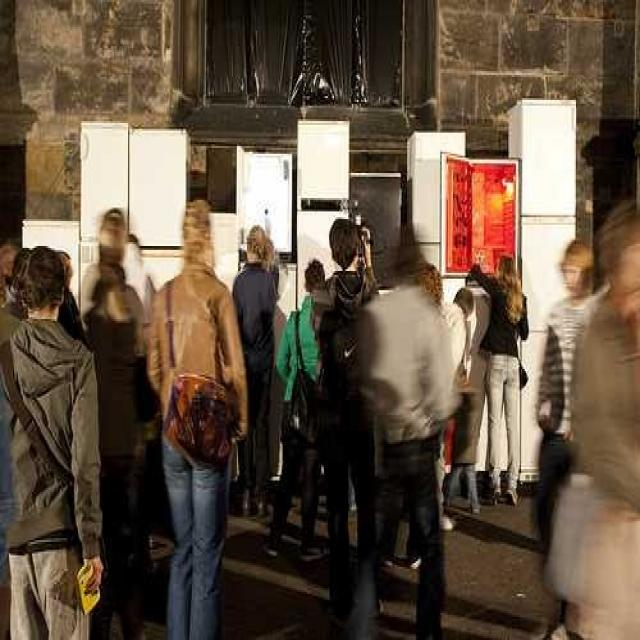refrigerator: (444, 156, 523, 278), (130, 128, 187, 250), (520, 97, 577, 217), (526, 215, 576, 334), (80, 122, 127, 244), (296, 211, 350, 317), (415, 130, 465, 244), (180, 214, 242, 301)
